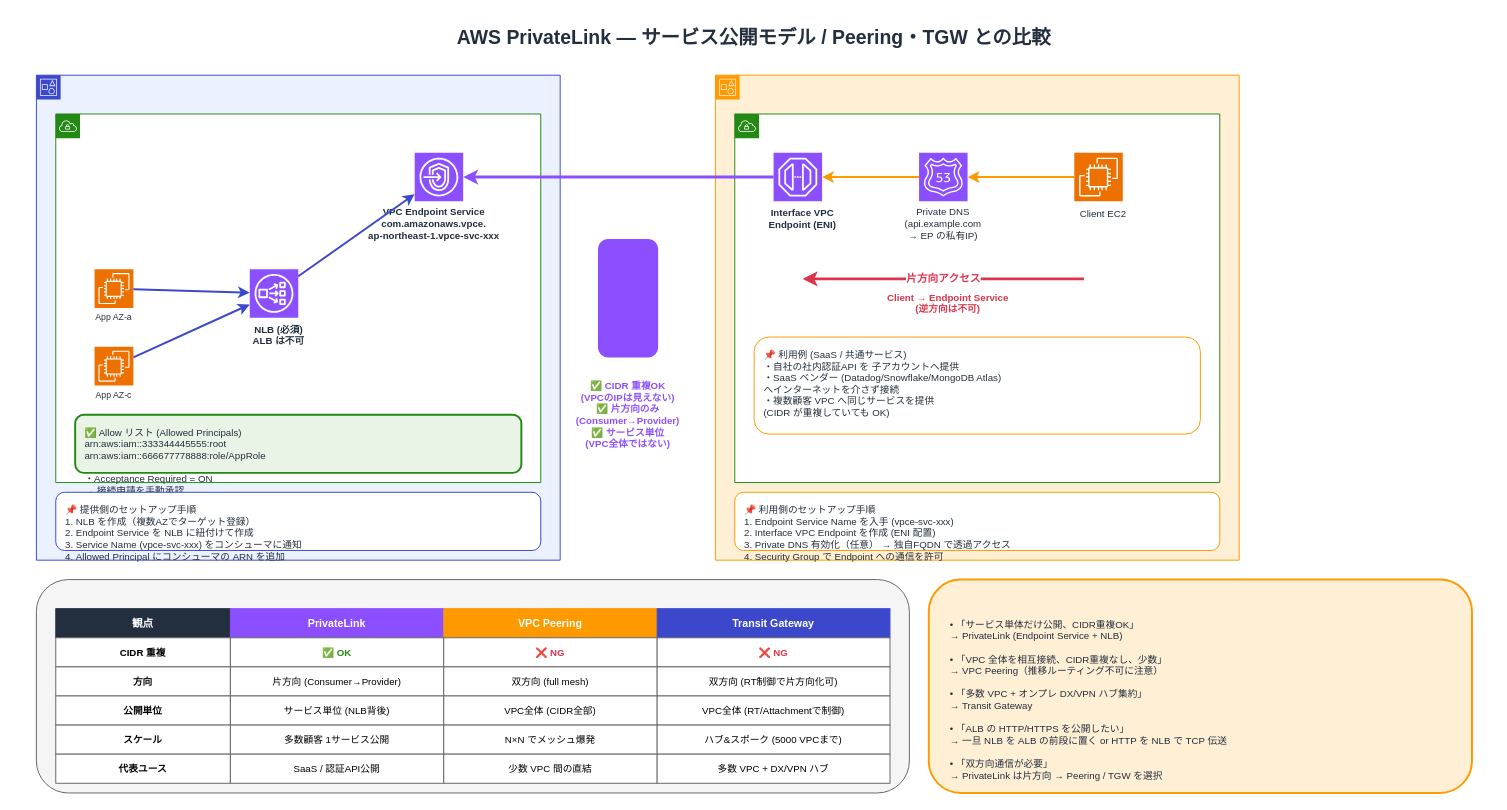
Image size: 1507x810. Some labels were removed from this diagram. Here are the shapes that lost their labels. From the top down, the box of each, then its label:
(35, 74, 560, 560): プロデューサー アカウント (サービス提供側) — 222222222222
(55, 113, 541, 483): VPC (10.10.0.0/16)
(598, 239, 658, 357): 🔒 PrivateLink (AWS バックボーン)
(714, 74, 1239, 560): コンシューマー アカウント (利用側) — 333344445555
(734, 113, 1220, 483): VPC (10.10.0.0/16) — CIDR重複OK！
(35, 579, 909, 793): 比較表 — PrivateLink vs VPC Peering vs Transit Gateway
(927, 578, 1472, 793): 🧭 試験で迷ったときの判断フロー
